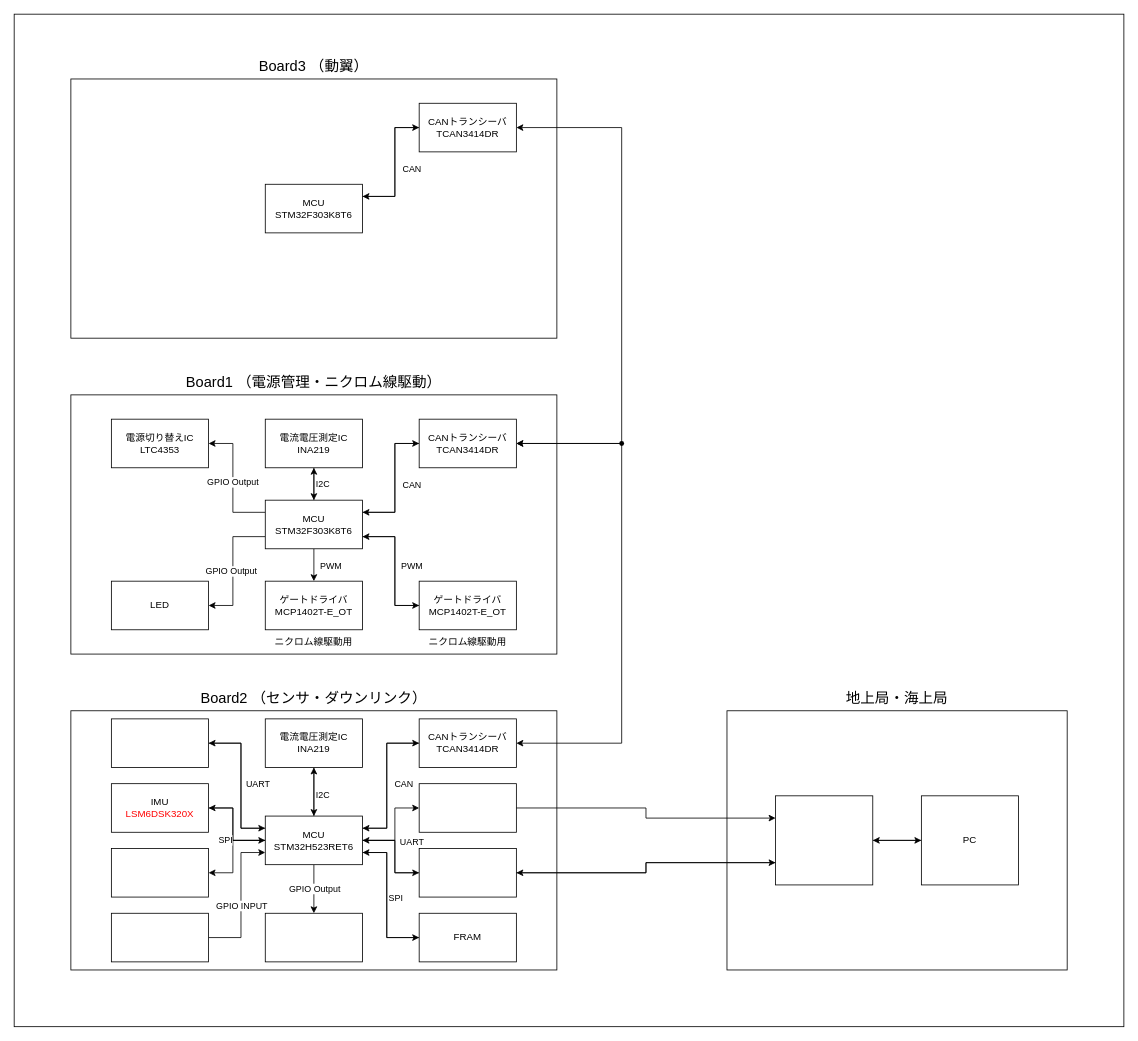
Some shapes in this 1138 by 1041 pixel diagram are drawn without their labels. The shapes that lost their labels are listed below. From the top down, each one's centre as x and y in pixels, then its label:
point 160,742: GNSS MAX-M10S
point 467,807: LoRa1 E22-900T30D
point 824,840: 地上局
point 160,872: Barometric Pressure BMP585
point 467,872: LoRa2 E22-900T30D
point 160,937: FLIGHT_PIN
point 313,937: Buzzer
